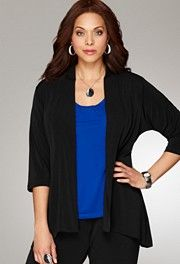F_W_suit jacket: (24, 72, 174, 229)
